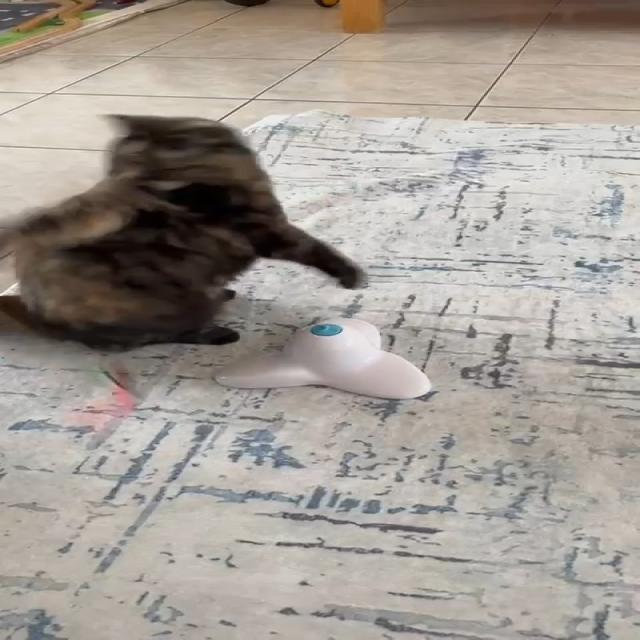authorized: (3, 112, 365, 352)
